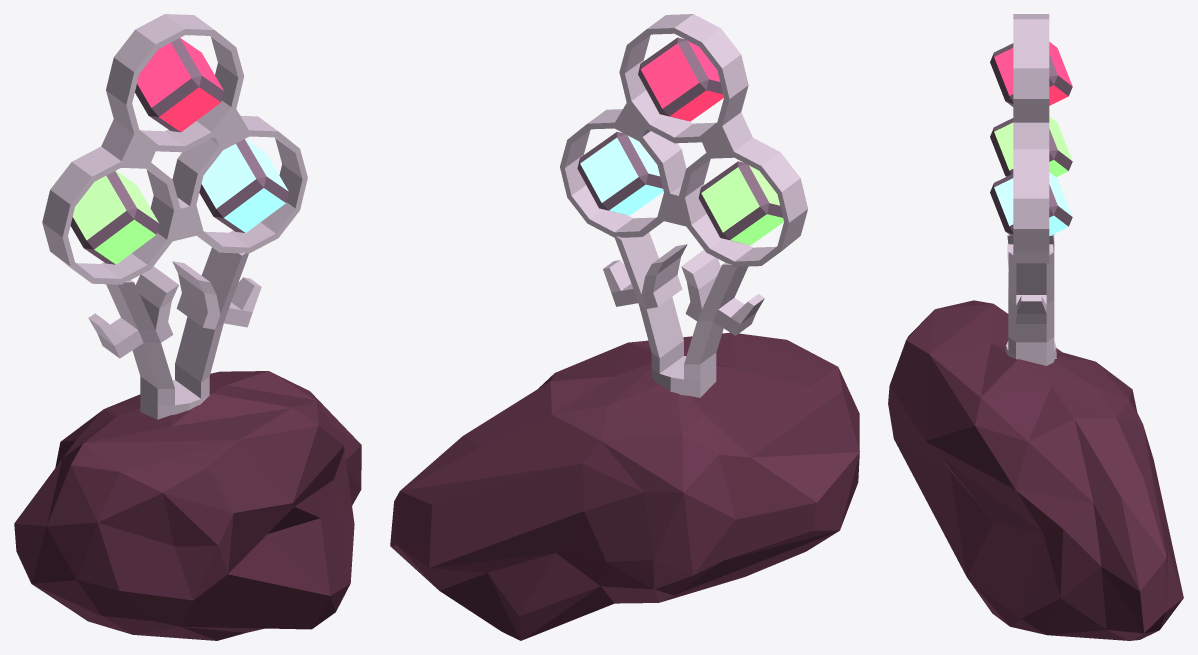
The model's file is Transmiter.fbx.
The picture shows the model from 3 angles, left to right: view 1: azimuth 30°, elevation 25°; view 2: azimuth 150°, elevation 25°; view 3: azimuth 270°, elevation 25°; orthographic projection. The views are drawn at different scales.
Parts seen in each view (by area): view 1: Asteroid1, Cylinder, IcePickUp.002, AttackPickUp.001, EnergyPickUp.002; view 2: Asteroid1, Cylinder, IcePickUp.002, AttackPickUp.001, EnergyPickUp.002; view 3: Asteroid1, Cylinder, IcePickUp.002, AttackPickUp.001, EnergyPickUp.002.
Boxes of the visible parts, box(x1,y1,x2,y2) form: Asteroid1: box(14, 371, 361, 640); Cylinder: box(42, 14, 307, 419); IcePickUp.002: box(199, 139, 288, 232); AttackPickUp.001: box(135, 38, 223, 132); EnergyPickUp.002: box(70, 170, 159, 264); Asteroid1: box(390, 332, 859, 640); Cylinder: box(560, 14, 807, 397); IcePickUp.002: box(577, 132, 663, 215); AttackPickUp.001: box(638, 37, 723, 121); EnergyPickUp.002: box(698, 161, 783, 245); Asteroid1: box(888, 300, 1183, 640); Cylinder: box(1005, 14, 1056, 365); IcePickUp.002: box(990, 172, 1072, 237); AttackPickUp.001: box(990, 42, 1072, 106); EnergyPickUp.002: box(990, 116, 1072, 177).
Size of the model in its own units: 693 by 1038 by 494.
